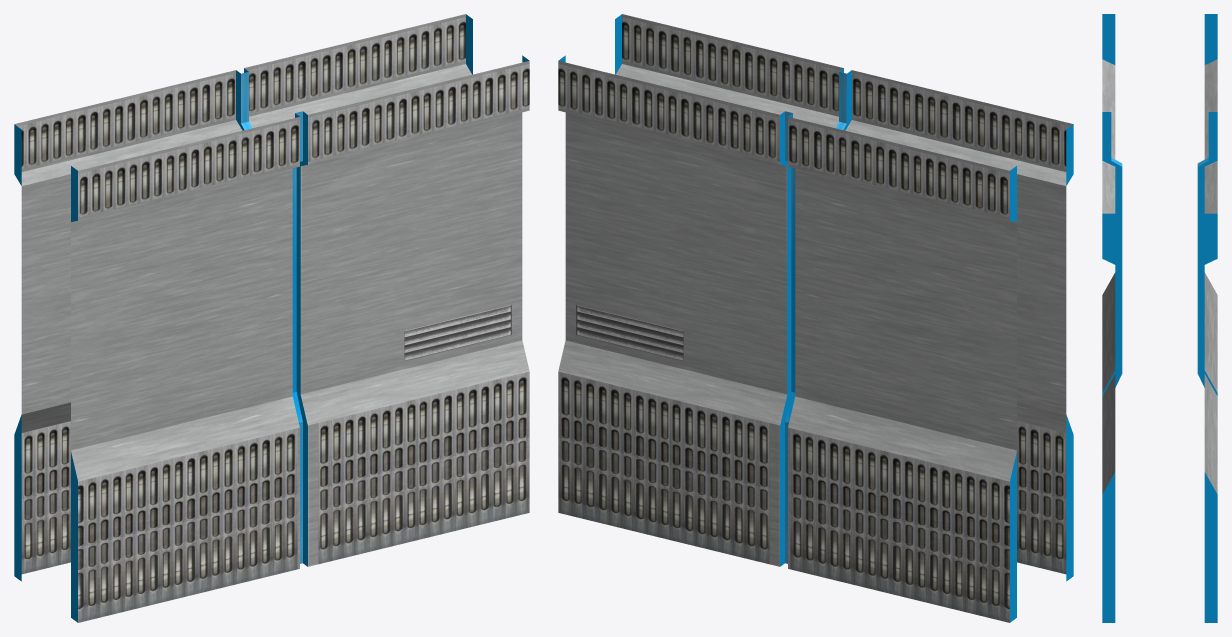
The model's file is machine_door.glb.
3 views of the same model, side by side, from view 1: azimuth 30°, elevation 25°; view 2: azimuth 150°, elevation 25°; view 3: azimuth 270°, elevation 25° (orthographic). The views are drawn at different scales.
Parts seen in each view (by area): view 1: machine_wall; view 2: machine_wall; view 3: machine_wall.
Boxes of the visible parts, <box> form: machine_wall: <box>14,14,529,622</box>; machine_wall: <box>558,14,1073,622</box>; machine_wall: <box>1102,14,1217,622</box>.
Bounding box in the file's own units: 5.16 × 4.94 × 1.26.
Materials: 1 (1 with a texture image).
